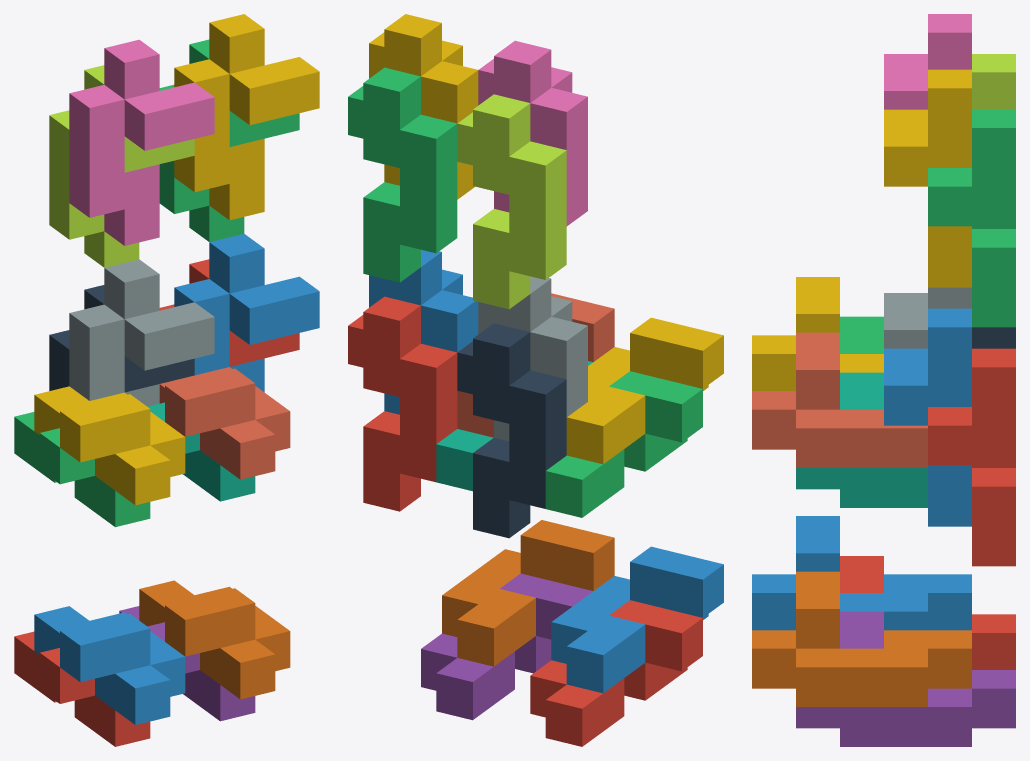
File: tiling.obj
3 views of the same model, side by side, from view 1: azimuth 30°, elevation 25°; view 2: azimuth 150°, elevation 25°; view 3: azimuth 270°, elevation 25° (orthographic). The views are drawn at different scales.
Parts seen in each view (by area): view 1: copy_2_domain_4, copy_2_domain_8, copy_2_domain_2, copy_1_domain_4, copy_1_domain_2, copy_1_domain_6, copy_2_domain_6, copy_1_domain_8, copy_2_domain_3, copy_1_domain_3, copy_1_domain_1, copy_2_domain_7 (+4 smaller); view 2: copy_2_domain_7, copy_2_domain_3, copy_2_domain_5, copy_2_domain_1, copy_1_domain_2, copy_1_domain_6, copy_1_domain_4, copy_1_domain_1, copy_1_domain_3, copy_2_domain_4, copy_1_domain_5, copy_2_domain_8 (+4 smaller); view 3: copy_1_domain_6, copy_1_domain_8, copy_2_domain_5, copy_2_domain_7, copy_1_domain_5, copy_1_domain_2, copy_2_domain_6, copy_2_domain_8, copy_1_domain_7, copy_1_domain_4, copy_2_domain_4, copy_1_domain_1 (+4 smaller).
Part boxes in pixels (left/top/right/bottom): copy_2_domain_4: left=69, top=39, right=214, bottom=245; copy_2_domain_8: left=174, top=14, right=319, bottom=220; copy_2_domain_2: left=69, top=259, right=214, bottom=406; copy_1_domain_4: left=34, top=386, right=185, bottom=505; copy_1_domain_2: left=34, top=606, right=185, bottom=724; copy_1_domain_6: left=139, top=580, right=290, bottom=699; copy_2_domain_6: left=174, top=233, right=319, bottom=392; copy_1_domain_8: left=159, top=367, right=290, bottom=479; copy_2_domain_3: left=49, top=65, right=194, bottom=267; copy_1_domain_3: left=14, top=412, right=150, bottom=527; copy_1_domain_1: left=14, top=631, right=150, bottom=746; copy_2_domain_7: left=159, top=39, right=299, bottom=242; copy_2_domain_7: left=348, top=67, right=457, bottom=282; copy_2_domain_3: left=457, top=94, right=566, bottom=309; copy_2_domain_5: left=348, top=296, right=457, bottom=511; copy_2_domain_1: left=457, top=323, right=566, bottom=538; copy_1_domain_2: left=551, top=546, right=723, bottom=693; copy_1_domain_6: left=442, top=520, right=614, bottom=666; copy_1_domain_4: left=566, top=317, right=723, bottom=464; copy_1_domain_1: left=530, top=600, right=702, bottom=746; copy_1_domain_3: left=545, top=371, right=702, bottom=517; copy_2_domain_4: left=478, top=40, right=587, bottom=226; copy_1_domain_5: left=421, top=573, right=592, bottom=720; copy_2_domain_8: left=369, top=14, right=478, bottom=199; copy_1_domain_6: left=752, top=571, right=971, bottom=706; copy_1_domain_8: left=752, top=332, right=927, bottom=467; copy_2_domain_5: left=928, top=348, right=1015, bottom=566; copy_2_domain_7: left=928, top=109, right=1015, bottom=327; copy_1_domain_5: left=796, top=611, right=1015, bottom=746; copy_1_domain_2: left=752, top=516, right=971, bottom=630; copy_2_domain_6: left=884, top=308, right=971, bottom=526; copy_2_domain_8: left=884, top=69, right=971, bottom=287; copy_1_domain_7: left=796, top=372, right=927, bottom=507; copy_1_domain_4: left=752, top=277, right=883, bottom=390; copy_2_domain_4: left=884, top=14, right=971, bottom=109; copy_1_domain_1: left=840, top=556, right=1015, bottom=669.
Size of the model in its own units: 8 by 17 by 6.
